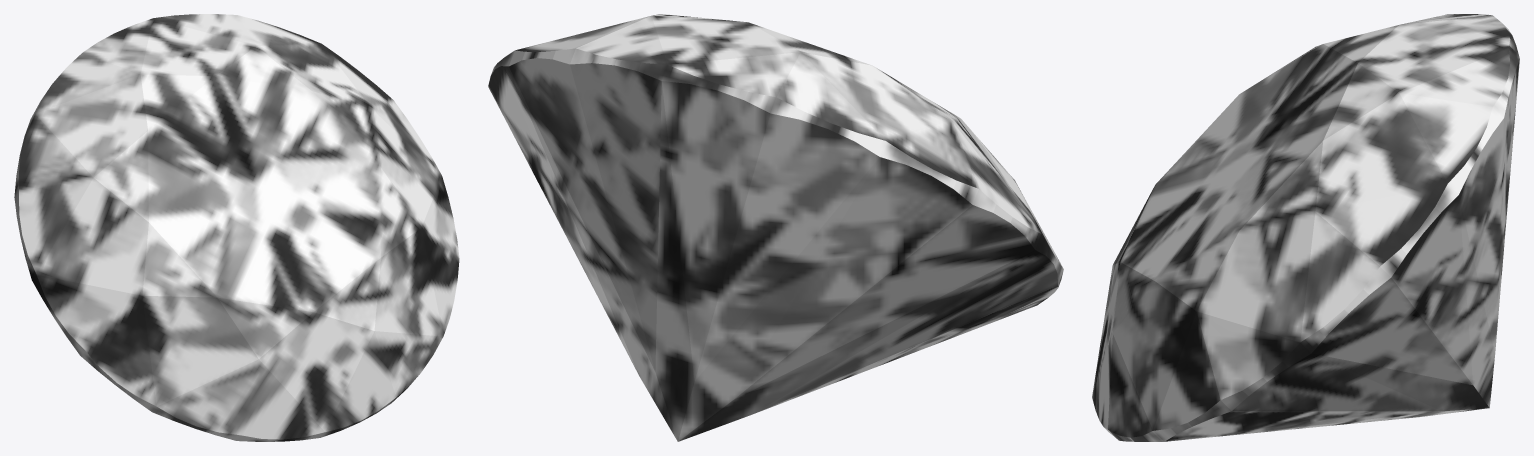
Rendered from Diamond23.glb.
3 renders of one model, left to right at view 1: azimuth 30°, elevation 25°; view 2: azimuth 150°, elevation 25°; view 3: azimuth 270°, elevation 25°, orthographic. The views are drawn at different scales.
Parts seen in each view (by area): view 1: 1.5mm Rd Stone(21D66F82-45F8-468D-9737-497C5D72D98E); view 2: 1.5mm Rd Stone(21D66F82-45F8-468D-9737-497C5D72D98E); view 3: 1.5mm Rd Stone(21D66F82-45F8-468D-9737-497C5D72D98E).
Boxes of the visible parts, x1=… form: 1.5mm Rd Stone(21D66F82-45F8-468D-9737-497C5D72D98E): x1=14, y1=14, x2=459, y2=441; 1.5mm Rd Stone(21D66F82-45F8-468D-9737-497C5D72D98E): x1=488, y1=14, x2=1063, y2=441; 1.5mm Rd Stone(21D66F82-45F8-468D-9737-497C5D72D98E): x1=1092, y1=14, x2=1519, y2=441.
Bounding box in the file's own units: 0.01 × 0.007 × 0.00754.
1 material, 1 textured.
